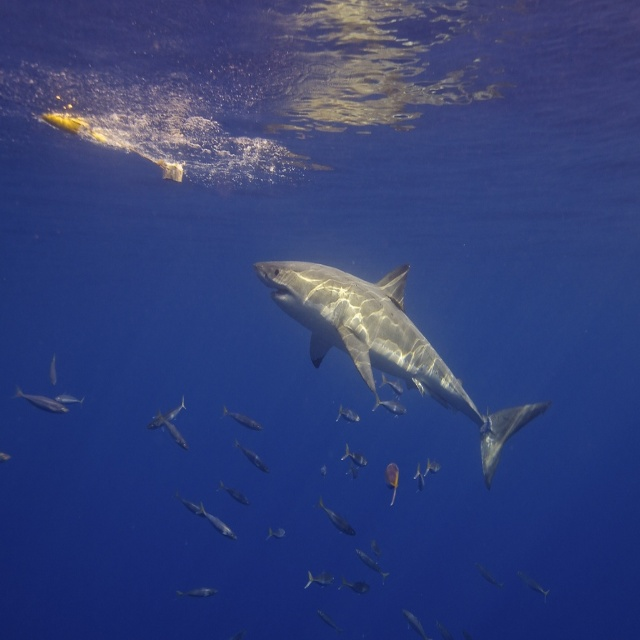Shark: (252, 260, 551, 491)
